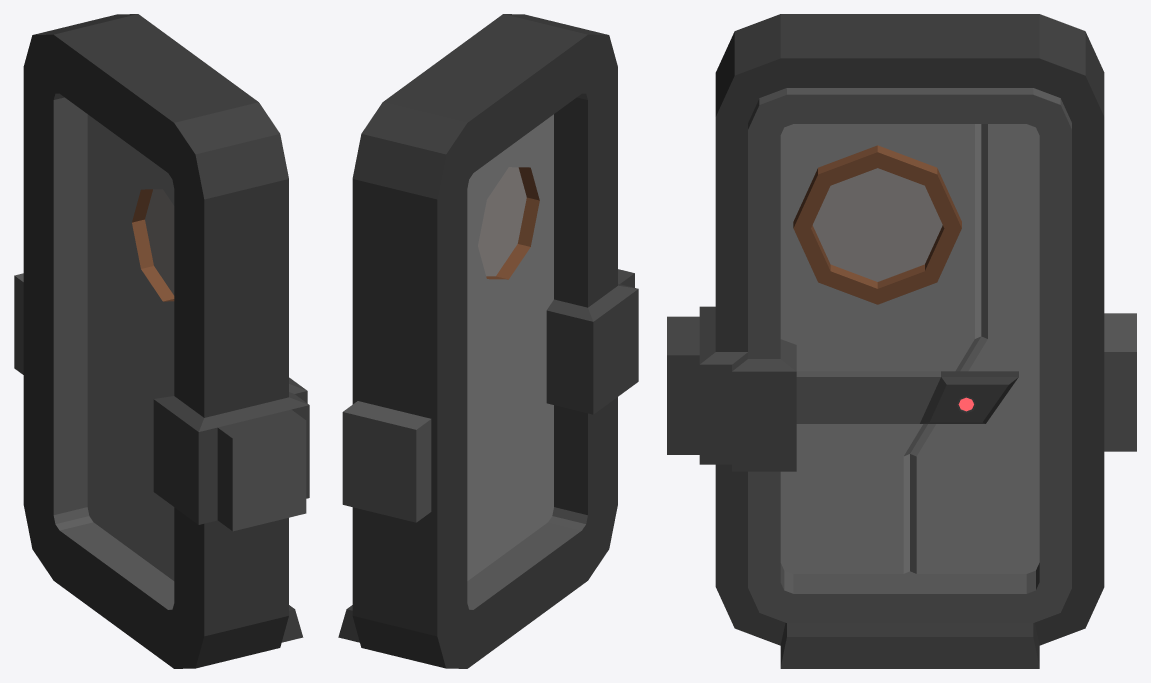
Rendered from SubDoor3.fbx.
The picture shows the model from 3 angles, left to right: view 1: azimuth 30°, elevation 25°; view 2: azimuth 150°, elevation 25°; view 3: azimuth 270°, elevation 25°; orthographic projection. The views are drawn at different scales.
Visible parts, largest first — view 1: Cube, DoorLeft, DoorRight; view 2: Cube, DoorLeft, DoorRight; view 3: Cube, DoorLeft, DoorRight, Lockbar.
Part boxes in pixels (x1,y1,x2,y2): Cube: [14, 14, 309, 668]; DoorLeft: [114, 134, 174, 580]; DoorRight: [87, 114, 147, 561]; Cube: [338, 14, 638, 668]; DoorLeft: [467, 114, 553, 561]; DoorRight: [467, 385, 493, 580]; Cube: [667, 14, 1136, 668]; DoorLeft: [780, 124, 981, 573]; DoorRight: [910, 124, 1039, 573]; Lockbar: [796, 371, 1018, 423].
Size of the model in its own units: 54.5 by 200 by 145.
